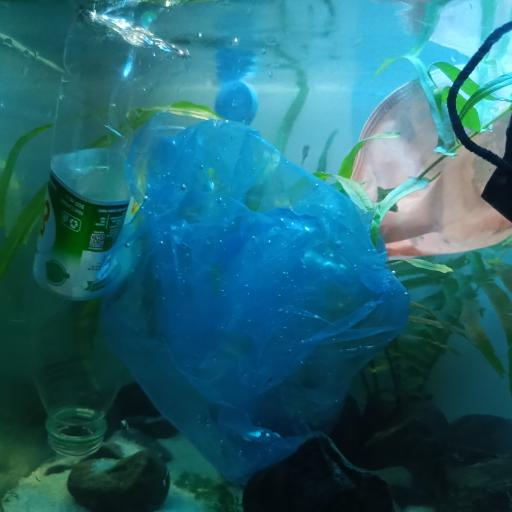bottle_cap: (214, 80, 258, 124)
mask: (342, 62, 512, 260), (448, 20, 512, 222)
plastic_bag: (102, 110, 410, 481)
plastic_bottle: (28, 6, 192, 453)
